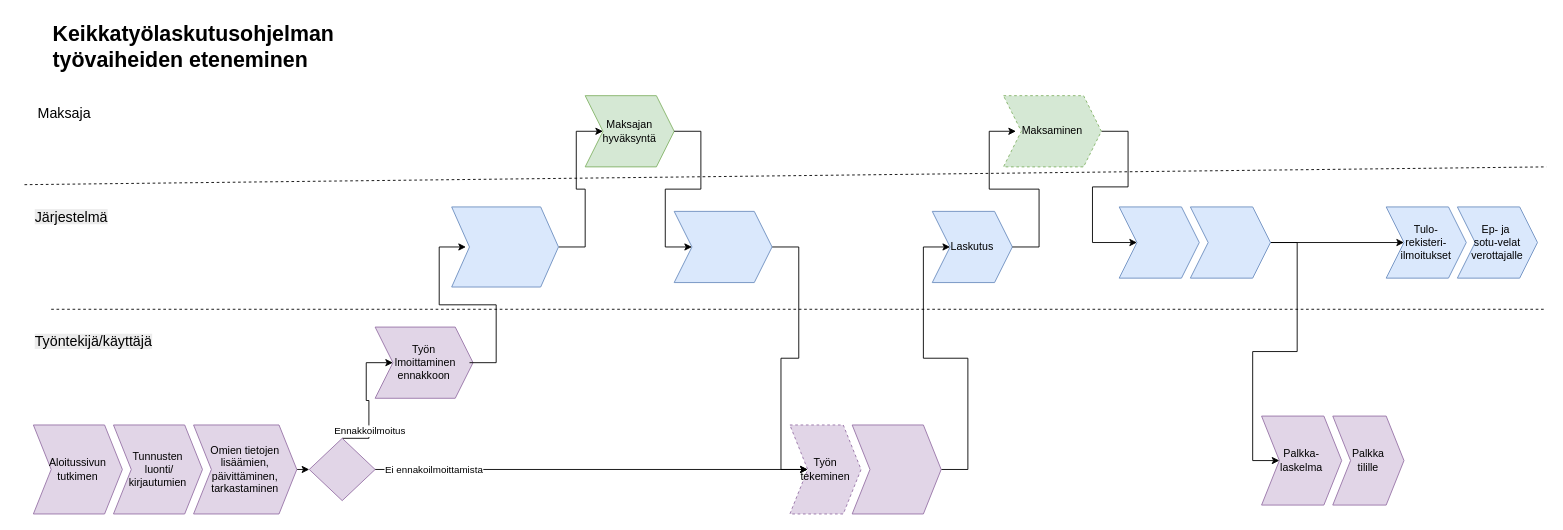
The diagram is 1563 pixels wide and 530 high, and some of its shapes have lost their labels. The shapes that lost their labels are listed below. From the top down, each one's centre as x and y in pixels, then its label:
the point at 504,246: Sopimuksen teko ja lähetys maksajalle
the point at 722,246: Sopimuksen hyväksymisen vastaanotto
the point at 1158,242: Maksun vastaanotto
the point at 1229,242: Palkan/ palkkion maksu
the point at 341,469: Valinta
the point at 896,469: Laskutus- toimeksi- anto
